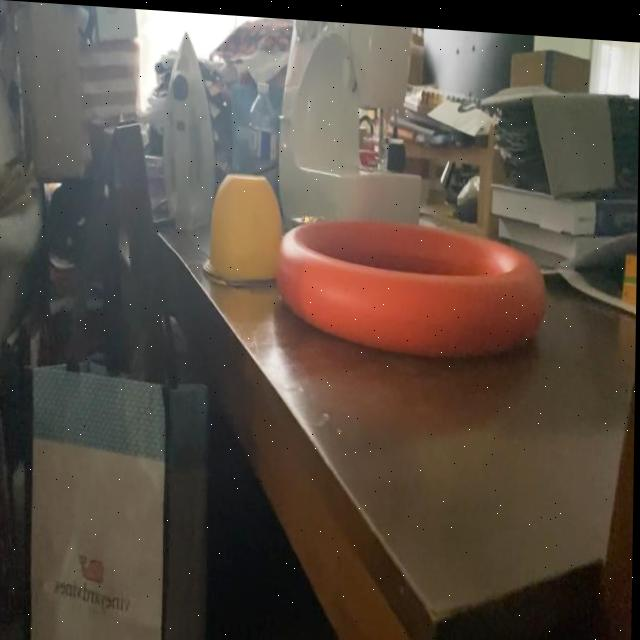note: (271, 204, 552, 360)
